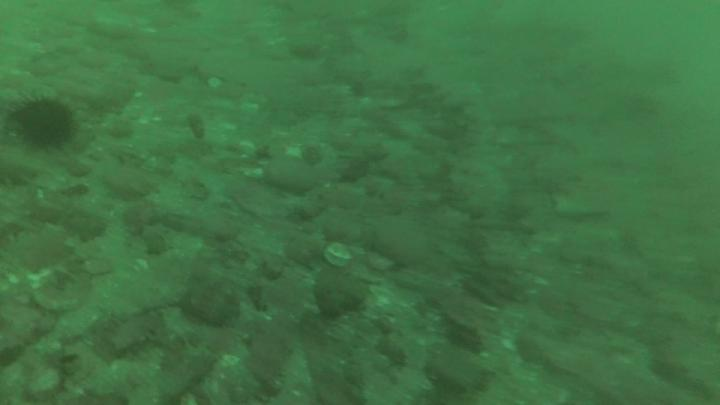echinus: (17, 99, 76, 149)
scallop: (325, 240, 354, 272)
